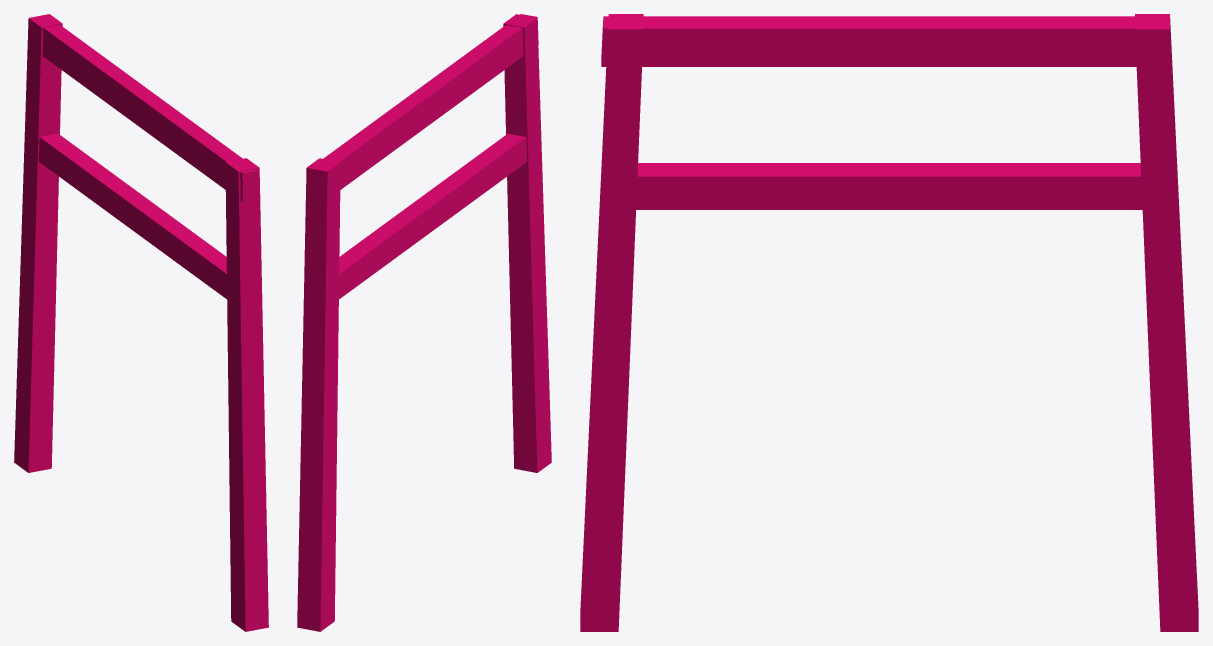
The model's file is Bastion_Pillar_01_Half_Lod0.fbx.
3 renders of one model, left to right at view 1: azimuth 30°, elevation 25°; view 2: azimuth 150°, elevation 25°; view 3: azimuth 270°, elevation 25°, orthographic. The views are drawn at different scales.
Visible parts, largest first — view 1: Bastion_Pillar_01_Half_Lod0; view 2: Bastion_Pillar_01_Half_Lod0; view 3: Bastion_Pillar_01_Half_Lod0.
Part boxes in pixels (left/top/right/bottom): Bastion_Pillar_01_Half_Lod0: left=14, top=14, right=268, bottom=631; Bastion_Pillar_01_Half_Lod0: left=297, top=14, right=551, bottom=631; Bastion_Pillar_01_Half_Lod0: left=580, top=14, right=1198, bottom=631.
Size of the model in its own units: 17.19 by 301 by 279.
